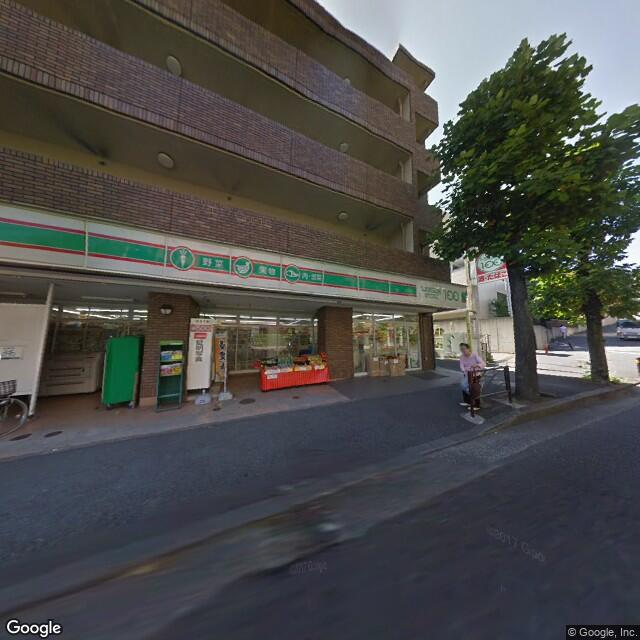lawson: (1, 203, 466, 313)
